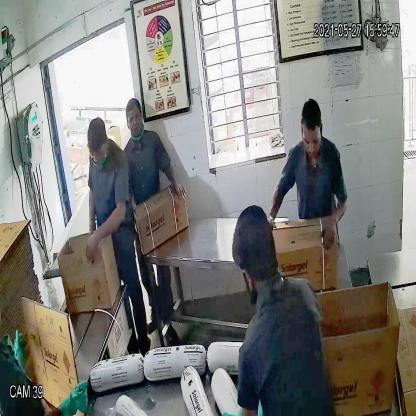no_goggles: (301, 131, 324, 150)
